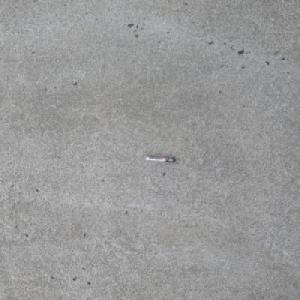Battery: (144, 156, 175, 163)
